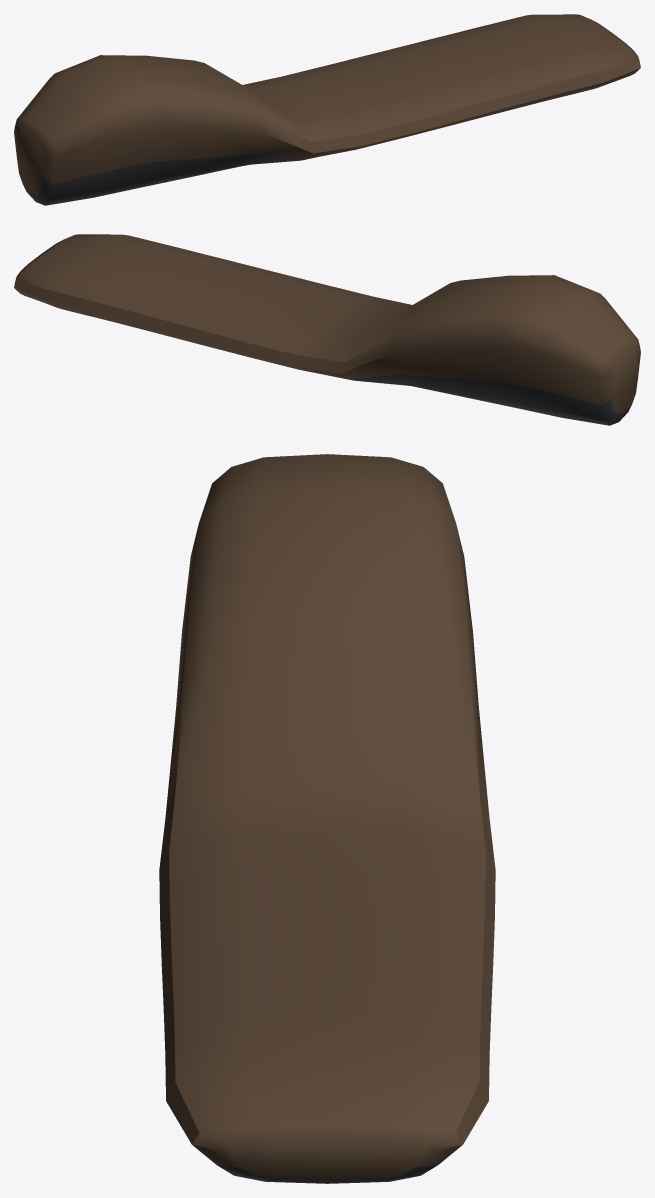
The model's file is cafe_lod1.glb.
The picture shows the model from 3 angles, top to bottom: view 1: azimuth 30°, elevation 25°; view 2: azimuth 150°, elevation 25°; view 3: azimuth 270°, elevation 25°; orthographic projection. The views are drawn at different scales.
Visible parts, largest first — view 1: cafe_lod1; view 2: cafe_lod1; view 3: cafe_lod1.
Boxes of the visible parts, box(x1,y1,x2,y2) form: cafe_lod1: box(14, 14, 640, 205); cafe_lod1: box(14, 234, 640, 425); cafe_lod1: box(159, 454, 495, 1183).
Size of the model in its own units: 1 by 0.1842 by 0.2499.
